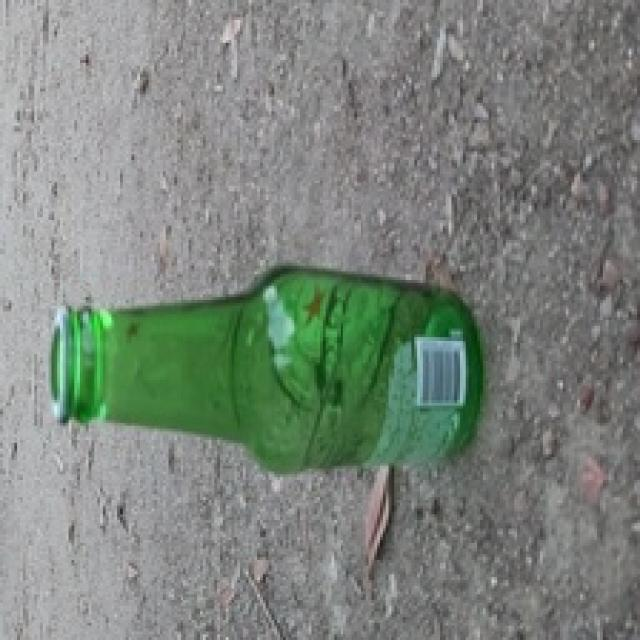garbage: (51, 246, 496, 484)
